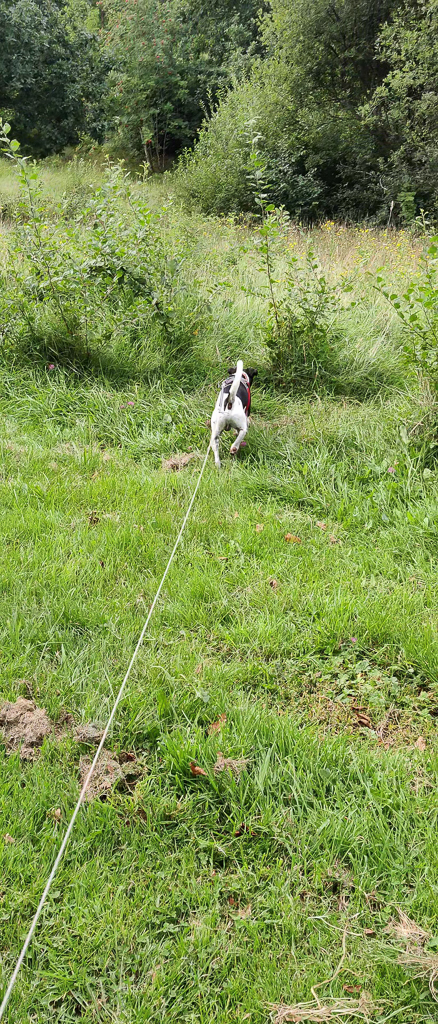Dog: (194, 351, 273, 479)
